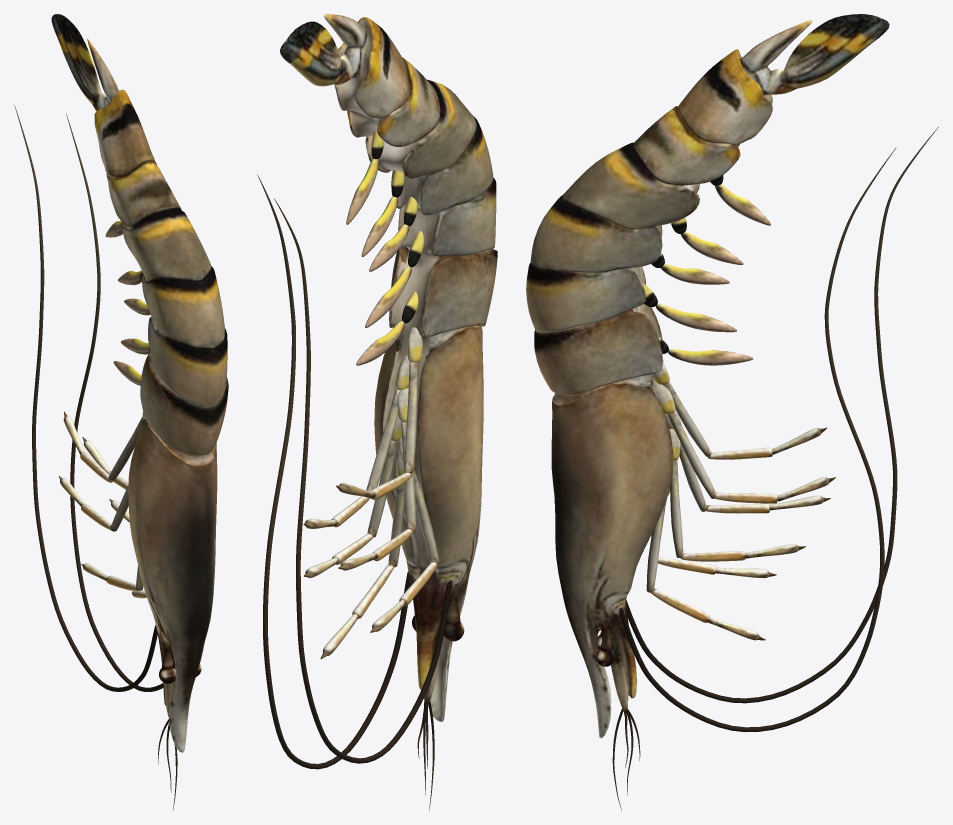
File: shrimp.obj
3 renders of one model, left to right at view 1: azimuth 30°, elevation 25°; view 2: azimuth 150°, elevation 25°; view 3: azimuth 270°, elevation 25°, orthographic. The views are drawn at different scales.
Parts seen in each view (by area): view 1: 10048_Shrimp_v1; view 2: 10048_Shrimp_v1; view 3: 10048_Shrimp_v1.
Part boxes in pixels (x1=…): 10048_Shrimp_v1: x1=14, y1=14, x2=228, y2=809; 10048_Shrimp_v1: x1=257, y1=14, x2=497, y2=810; 10048_Shrimp_v1: x1=526, y1=14, x2=938, y2=810.
Bounding box in the file's own units: 2.73 × 23.86 × 11.2.
Materials: 1 (1 with a texture image).
